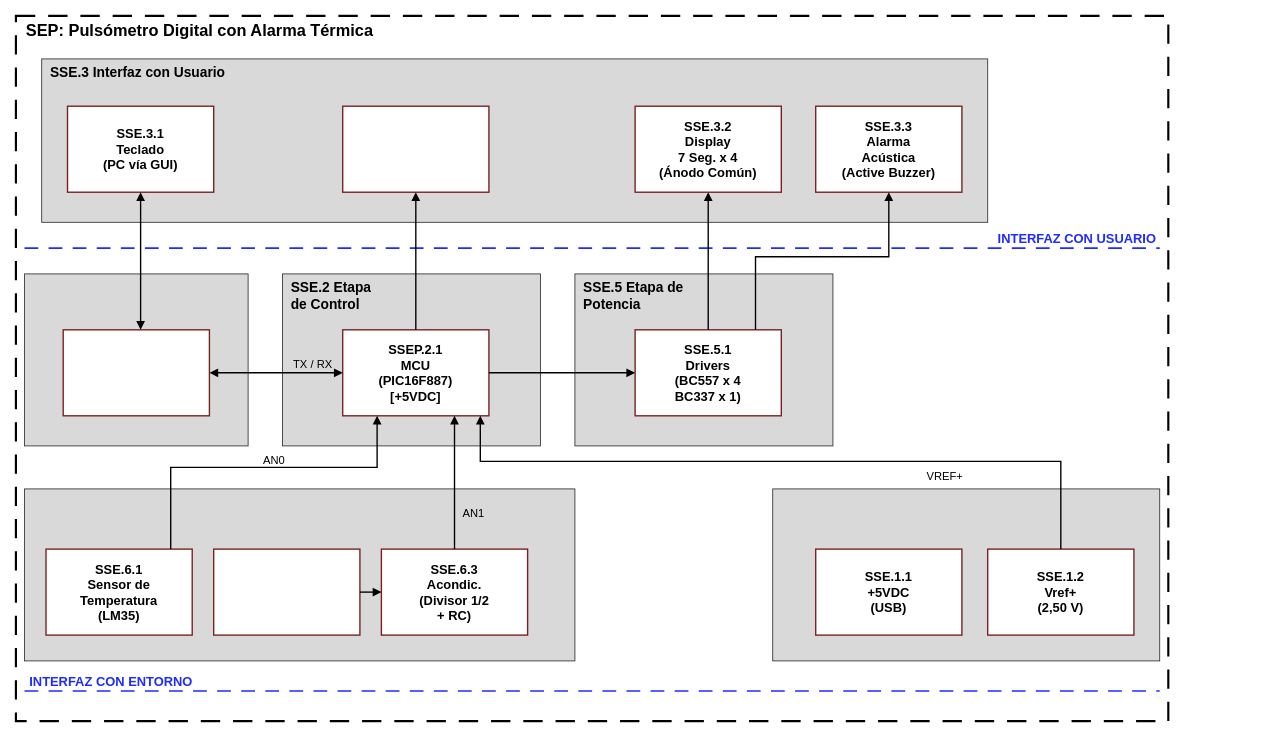
Some shapes in this 1269 by 737 pixel diagram are drawn without their labels. The shapes that lost their labels are listed below. From the top down, each one's box as (x1, y1, x2, y2) in pixels, then its label:
(342, 105, 489, 192): SSE.3.4 Alarma Visual (LEDs x 4)
(24, 273, 248, 446): SSE.7 Etapa de Comunicación
(62, 329, 210, 416): SSE.7.1 USB-UART (CP2102) [9600 8N1]
(213, 548, 360, 635): SSE.6.2 Sensor de Pulso (HW-827)
(24, 488, 575, 661): SSE.6 Etapa de Adquisición
(772, 488, 1160, 661): SSE.1 Etapa de Alimentación
